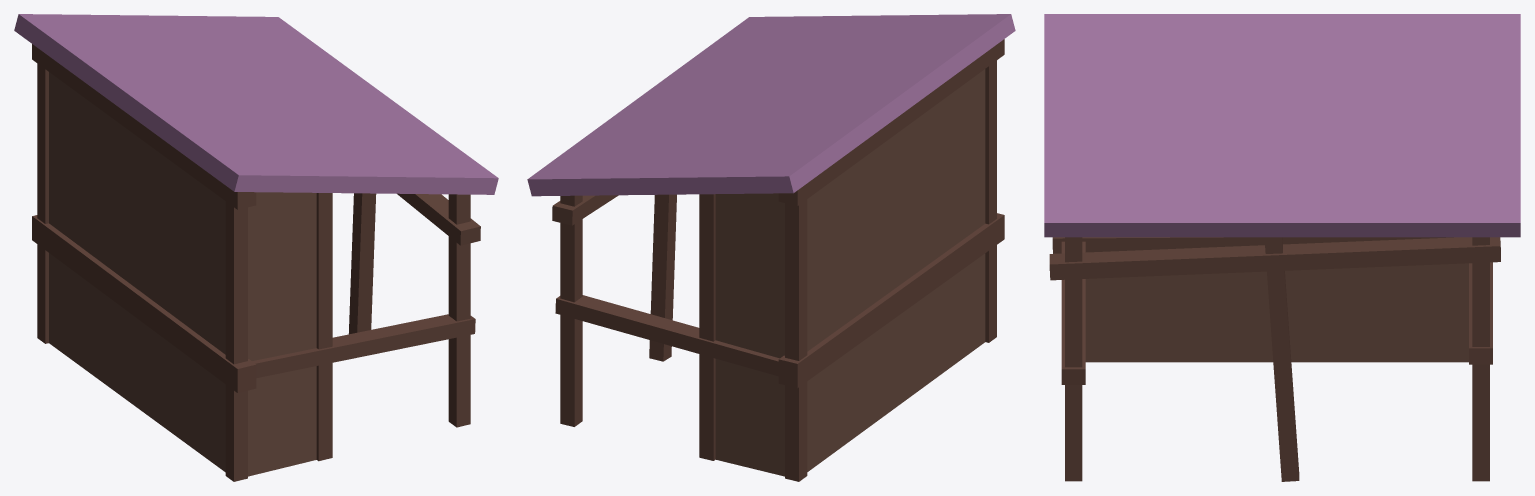
The model's file is Shack.fbx.
3 renders of one model, left to right at view 1: azimuth 30°, elevation 25°; view 2: azimuth 150°, elevation 25°; view 3: azimuth 270°, elevation 25°, orthographic. The views are drawn at different scales.
Parts seen in each view (by area): view 1: Shack; view 2: Shack; view 3: Shack.
Part boxes in pixels (x1,y1,x2,y2): Shack: (14, 14, 498, 481); Shack: (527, 14, 1015, 481); Shack: (1044, 14, 1520, 481).
Bounding box in the file's own units: 307 × 350 × 443.
